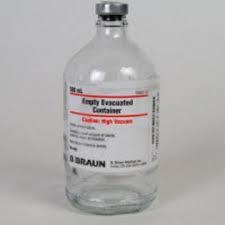Iv_Bottle: (64, 2, 158, 213)
